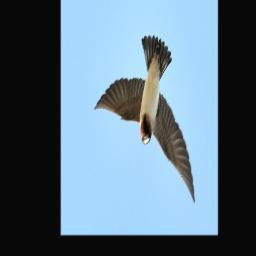Swallow: (94, 35, 196, 206)
